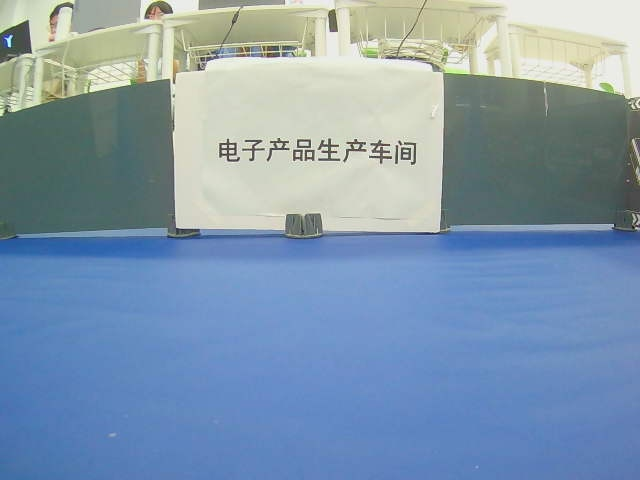target: (216, 136, 418, 166)
